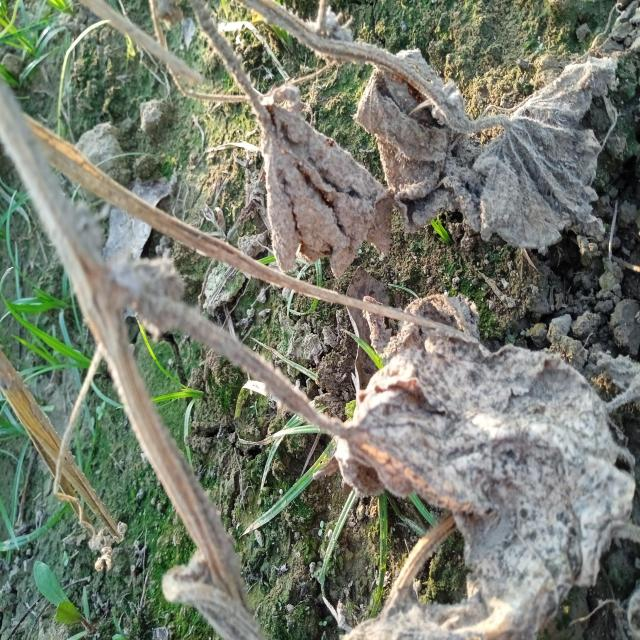cucumber_bacterial: (319, 304, 640, 640), (222, 71, 398, 285), (471, 52, 640, 266), (350, 42, 456, 187)
